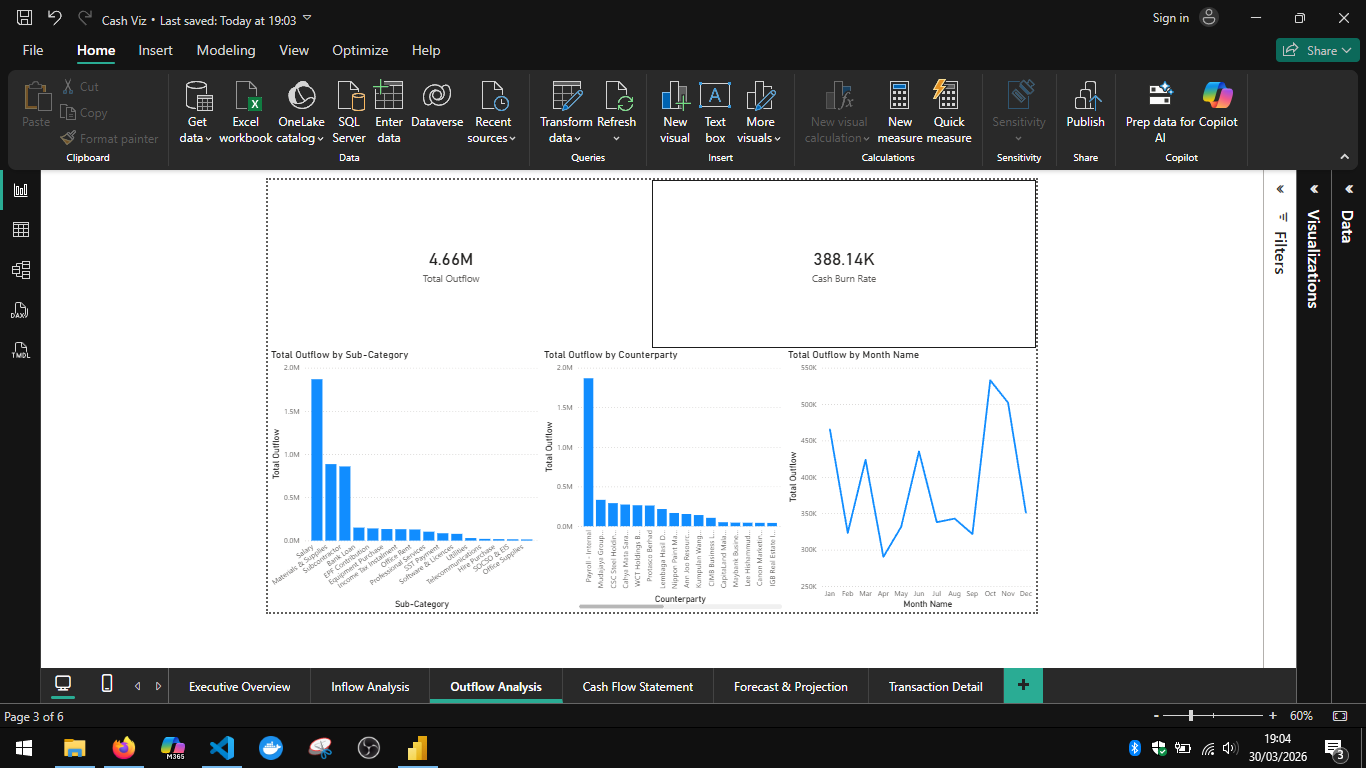

The page's visual inventory and layout, read from the dashboard file:
{"tool":"powerbi","page":{"name":"Outflow Analysis","canvas":[1280,720],"ordinal":2},"visuals":[{"type":"card","fields":{"Values":["MeasuresTable.Total Outflow"]},"box":[0,0,610,280],"z":0},{"type":"card","fields":{"Values":["MeasuresTable.Cash Burn Rate"]},"box":[640,0,640,280],"z":1},{"type":"clusteredColumnChart","fields":{"Category":["transactions_sample.Sub-Category"],"Y":["MeasuresTable.Total Outflow"]},"box":[0,280,455,440],"z":2},{"type":"clusteredColumnChart","fields":{"Y":["MeasuresTable.Total Outflow"],"Category":["DimCounterparty.Counterparty"]},"box":[455,280,406.7,440],"z":3},{"type":"lineChart","fields":{"Y":["MeasuresTable.Total Outflow"],"Category":["DimDate.Month Name"]},"box":[861.7,280,418.3,440],"z":4}]}

Visuals, with their boxes on the page's 1280x720 design canvas (x1, y1, x2, y2). These are canvas units, not pixel positions in the 1366x768 screenshot, which may show the page scaled, cropped or inside an application window:
card - MeasuresTable.Total Outflow: <box>0,0,610,280</box>
card - MeasuresTable.Cash Burn Rate: <box>640,0,1280,280</box>
clusteredColumnChart - transactions_sample.Sub-Category x MeasuresTable.Total Outflow: <box>0,280,455,720</box>
clusteredColumnChart - MeasuresTable.Total Outflow x DimCounterparty.Counterparty: <box>455,280,862,720</box>
lineChart - MeasuresTable.Total Outflow x DimDate.Month Name: <box>862,280,1280,720</box>
